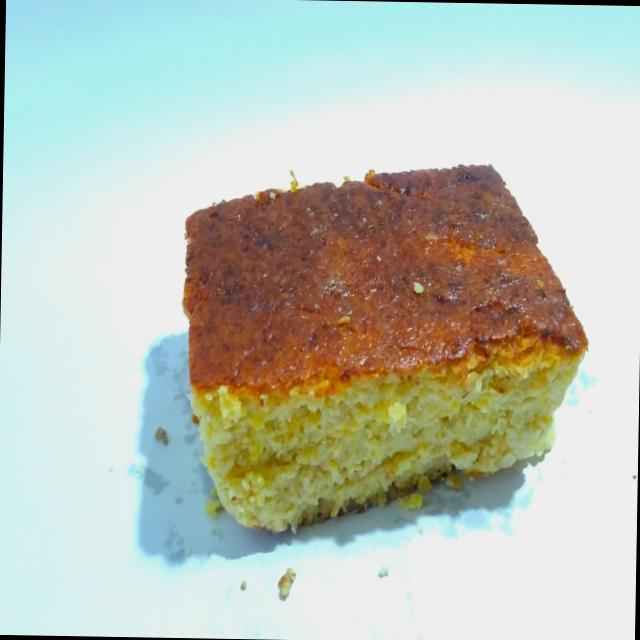Chipa_Guazu: (159, 128, 598, 560)
